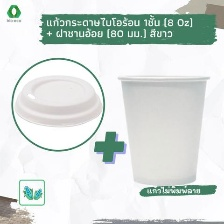paper_cup: (113, 65, 213, 189)
